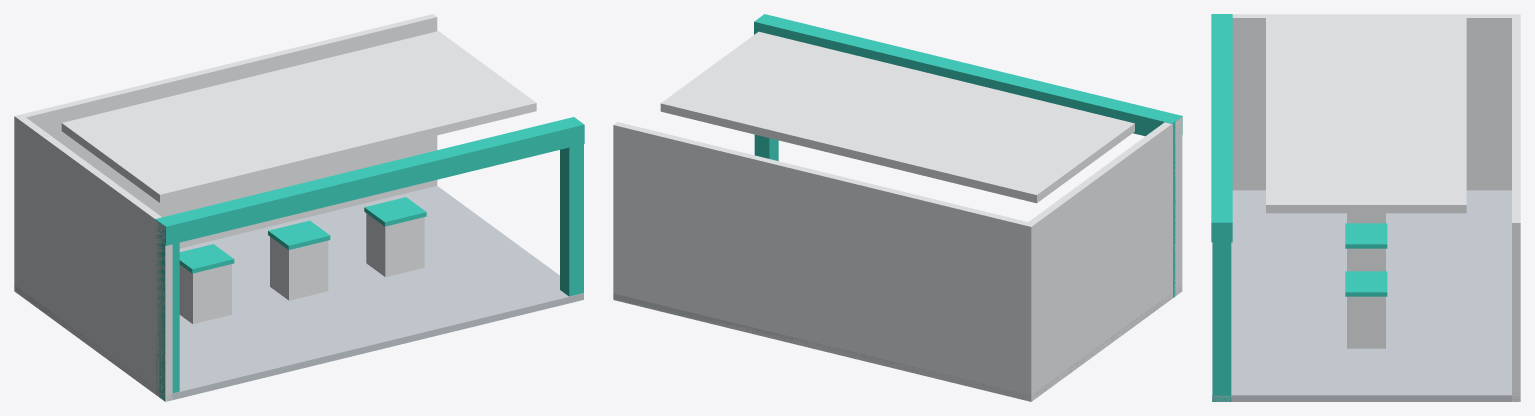
The picture shows the model from 3 angles, left to right: view 1: azimuth 30°, elevation 25°; view 2: azimuth 150°, elevation 25°; view 3: azimuth 270°, elevation 25°; orthographic projection. The views are drawn at different scales.
Visible parts, largest first — view 1: Exhibition Booth Concept; view 2: Exhibition Booth Concept; view 3: Exhibition Booth Concept.
Part boxes in pixels (x1,y1,x2,y2): Exhibition Booth Concept: (14,14,584,401); Exhibition Booth Concept: (613,14,1182,401); Exhibition Booth Concept: (1211,14,1520,401).
Bounding box in the file's own units: 8 × 3.34 × 5.02.
